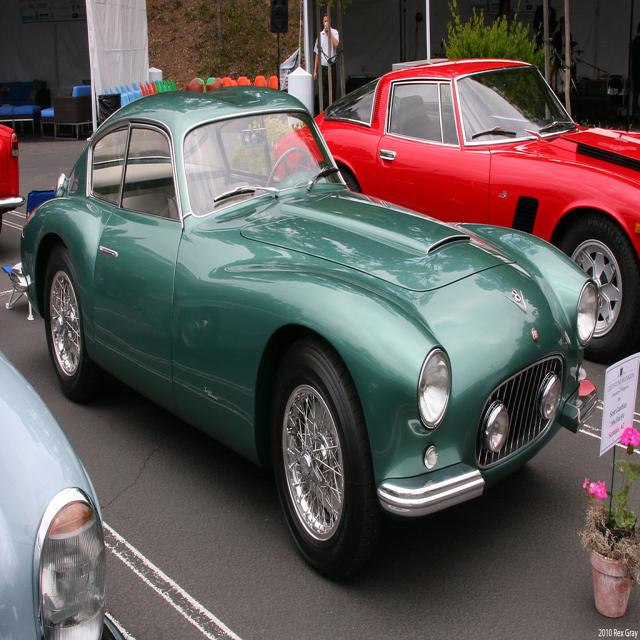car: (18, 76, 602, 575)
